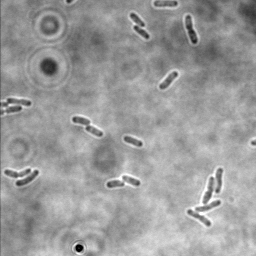Dividing: (184, 14, 199, 45), (3, 167, 32, 180), (6, 96, 33, 108)
Microcolony: (186, 167, 225, 227)
Rod: (14, 168, 39, 187), (158, 70, 179, 91), (132, 24, 150, 41), (128, 12, 146, 28), (85, 123, 104, 138), (121, 174, 141, 188), (122, 135, 143, 148), (152, 0, 179, 9), (105, 178, 125, 190), (70, 116, 93, 126)
